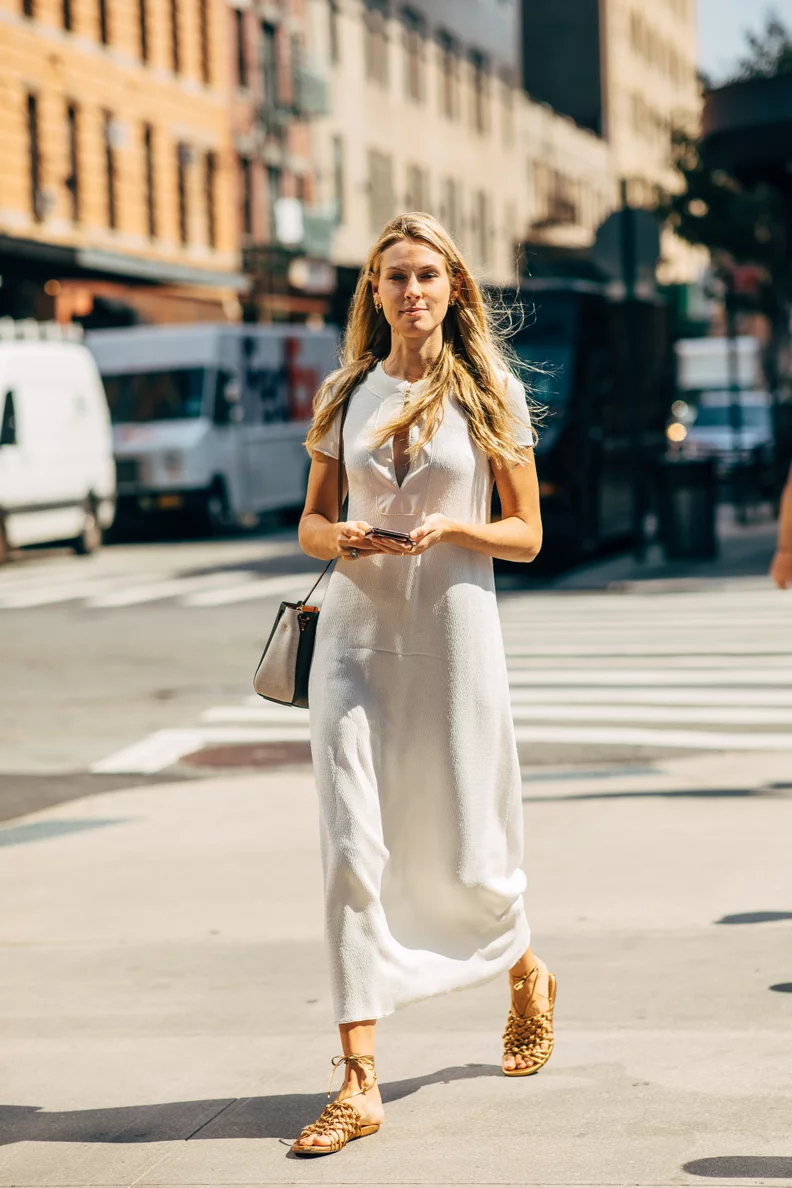person: (273, 201, 561, 1162)
